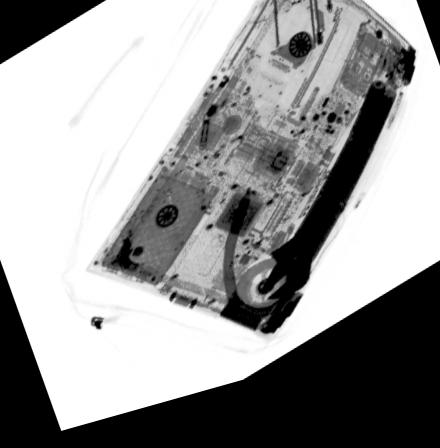Wrench: (256, 101, 394, 318)
